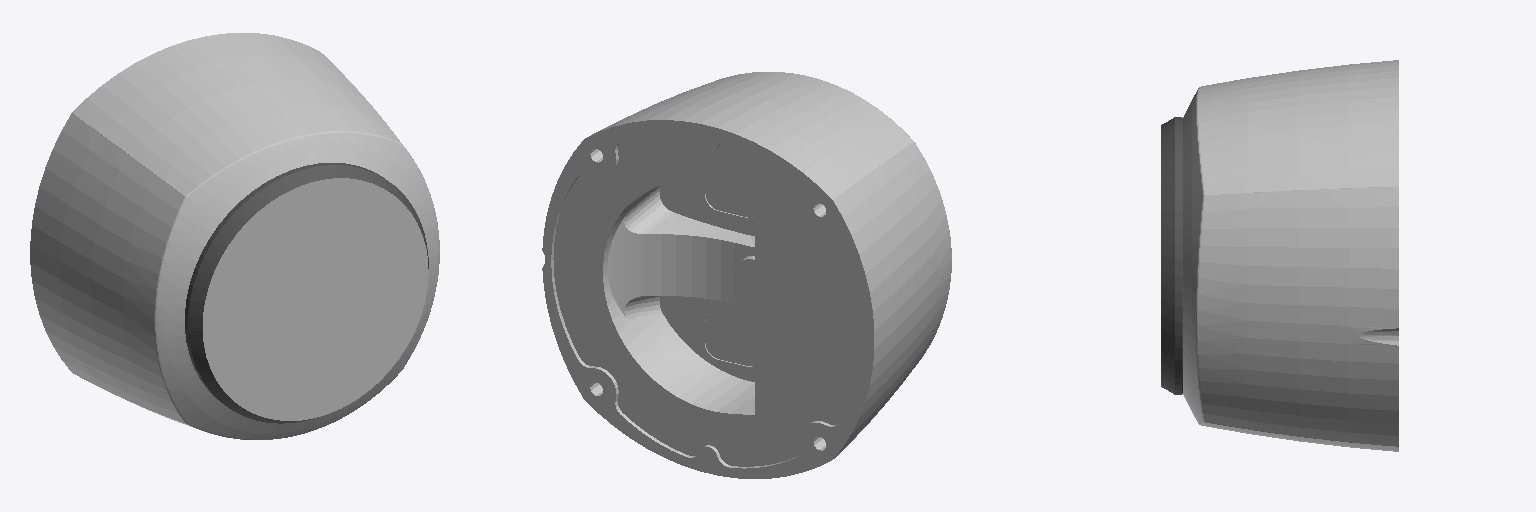
The picture shows the model from 3 angles: view 1: azimuth 30°, elevation 25°; view 2: azimuth 150°, elevation 25°; view 3: azimuth 270°, elevation 25°; orthographic projection.
Parts seen in each view (by area): view 1: link_0; view 2: link_0; view 3: link_0.
Boxes of the visible parts, x1=… form: link_0: x1=30, y1=33, x2=439, y2=439; link_0: x1=542, y1=72, x2=951, y2=478; link_0: x1=1161, y1=60, x2=1398, y2=451.
Size of the model in its own units: 0.2525 by 0.2525 by 0.157.